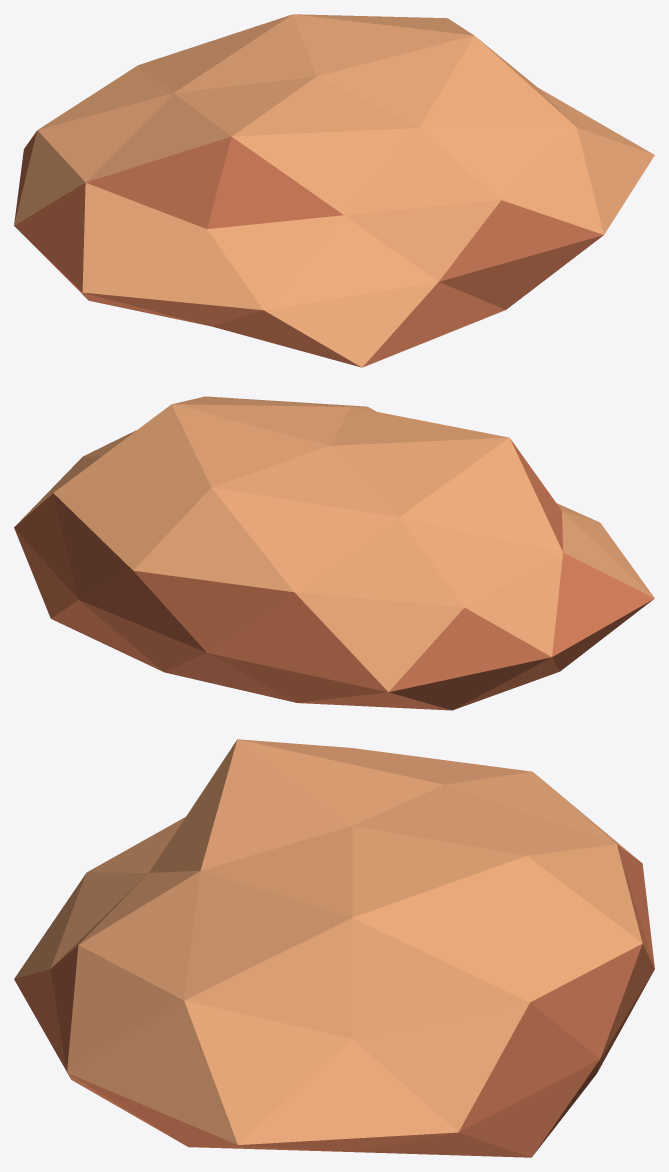
The model's file is rock_sandstone_b.glb.
3 renders of one model, top to bottom at view 1: azimuth 30°, elevation 25°; view 2: azimuth 150°, elevation 25°; view 3: azimuth 270°, elevation 25°, orthographic. The views are drawn at different scales.
Parts seen in each view (by area): view 1: rock_sandstone_b; view 2: rock_sandstone_b; view 3: rock_sandstone_b.
Boxes of the visible parts, x1,y1,x2,y2 form: rock_sandstone_b: (14,14,654,367); rock_sandstone_b: (14,396,654,710); rock_sandstone_b: (14,739,654,1157).
Bounding box in the file's own units: 4.62 × 1.35 × 3.64.
